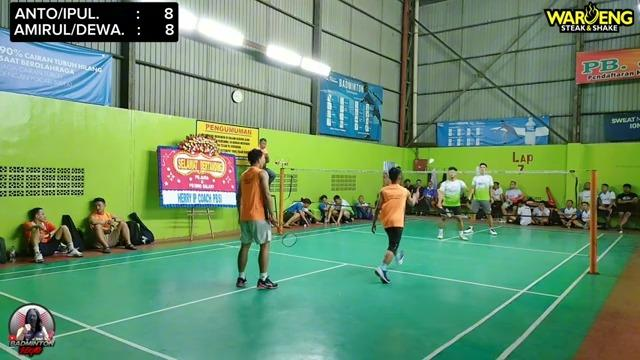Shuttlecock: (427, 156, 438, 168)
